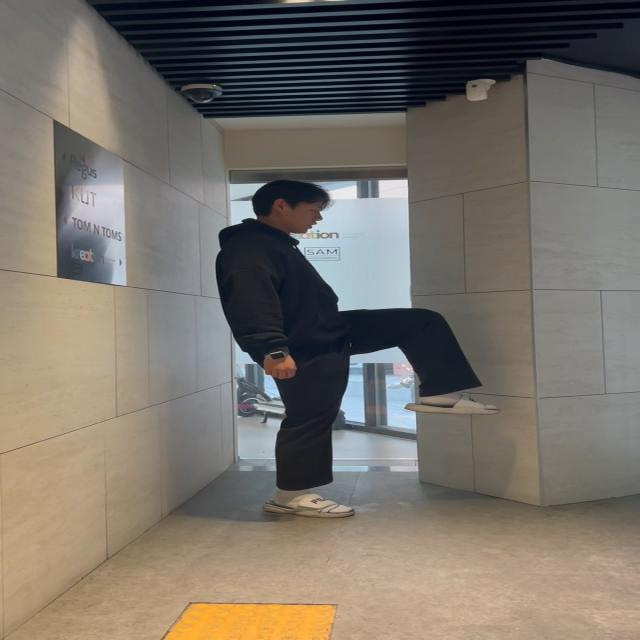knee: (342, 289, 516, 429)
